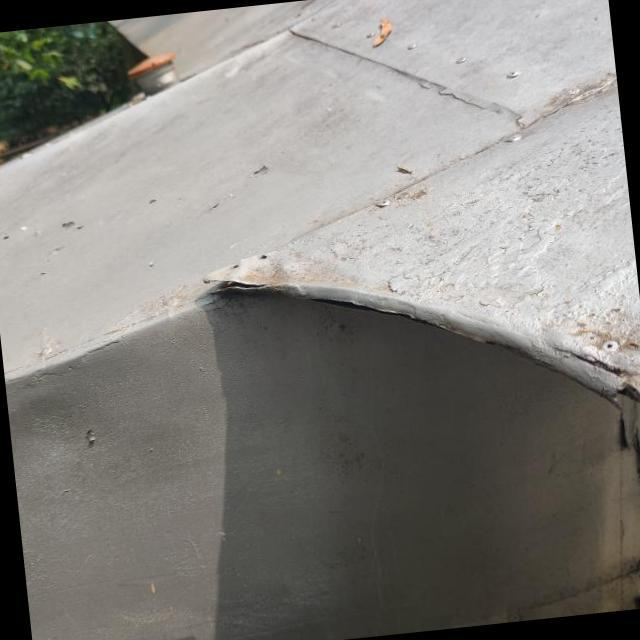Rupture: (535, 316, 640, 393), (197, 264, 280, 310)
